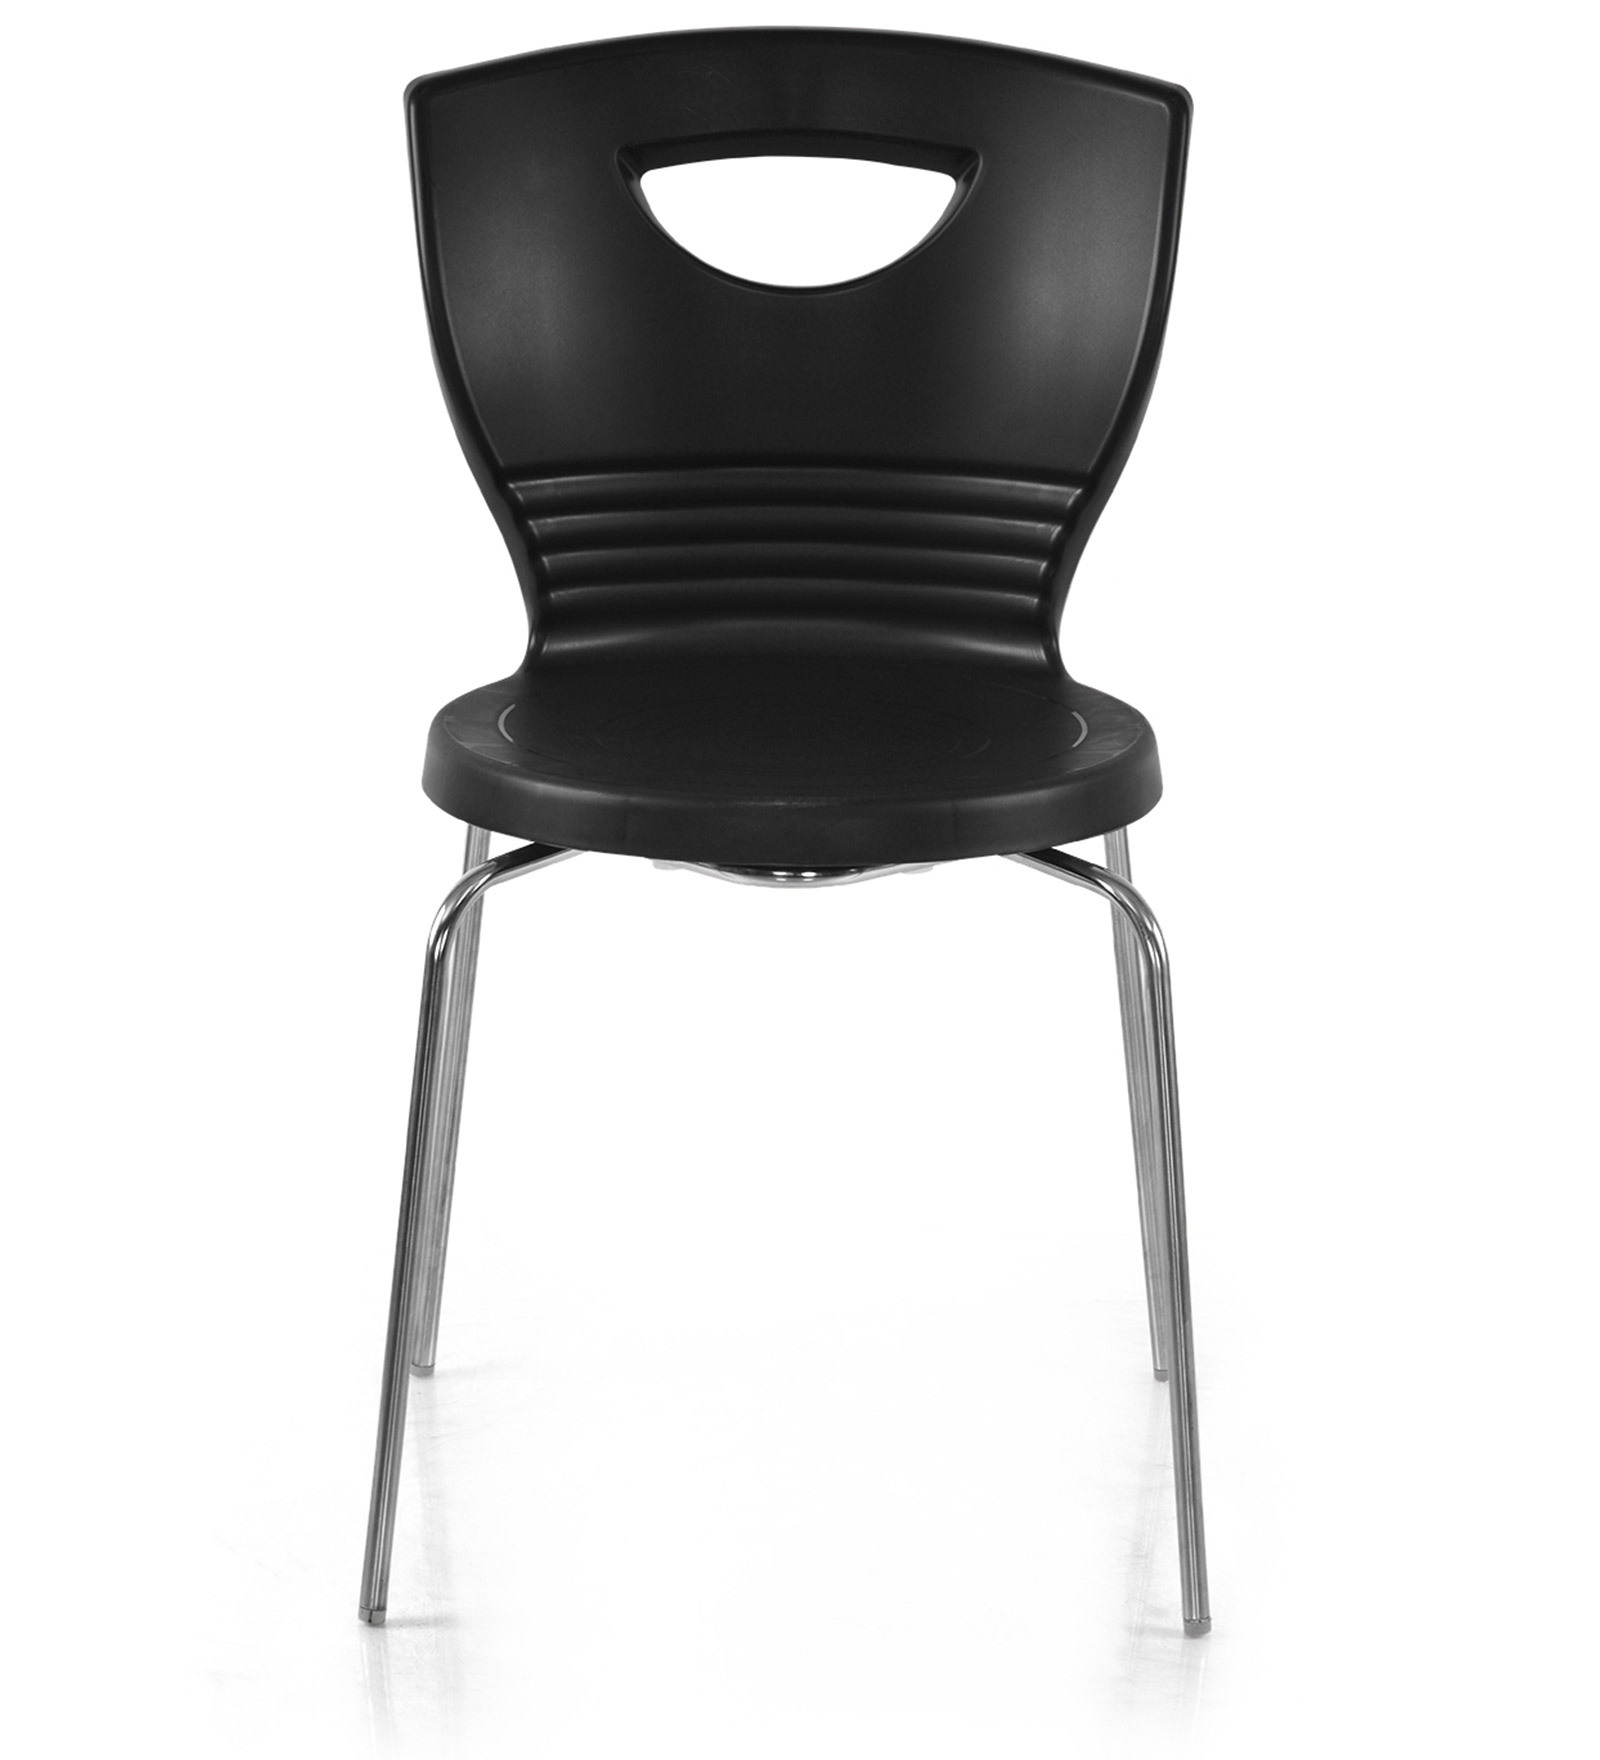Novella Series - 15 (Set of 2) Chairs in Black Color by Nilkamal: (362, 18, 1237, 1633)
